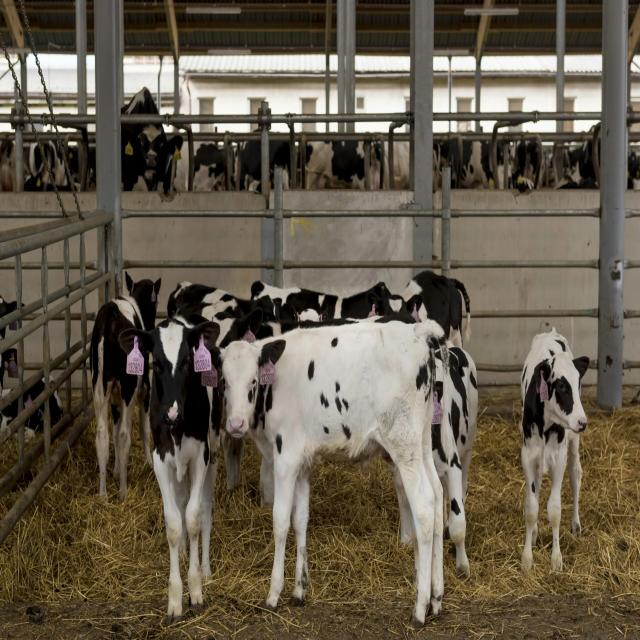cow: (216, 315, 452, 628), (118, 314, 224, 619), (518, 325, 590, 573), (89, 270, 161, 503), (73, 86, 183, 196), (250, 279, 404, 322), (395, 270, 471, 350), (298, 132, 388, 190), (0, 372, 64, 444), (438, 130, 512, 190), (233, 131, 300, 193), (385, 136, 443, 191), (192, 141, 234, 192)
